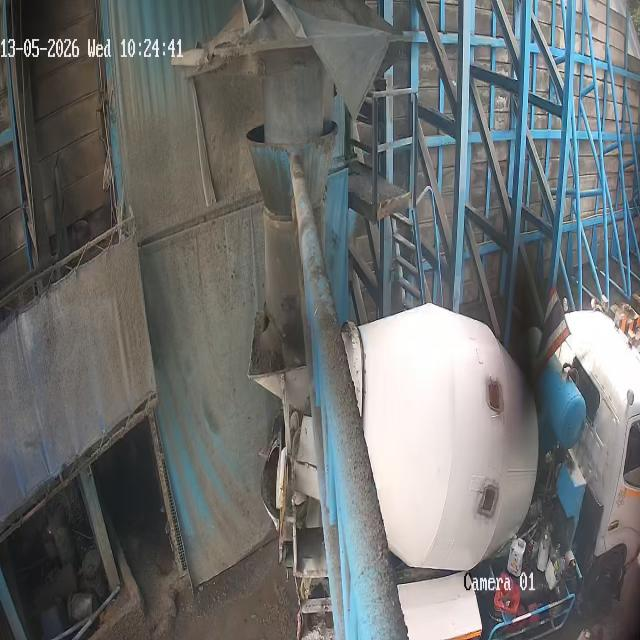cement_mixer_truck: (250, 305, 640, 640)
swing_chute: (248, 123, 343, 347)
